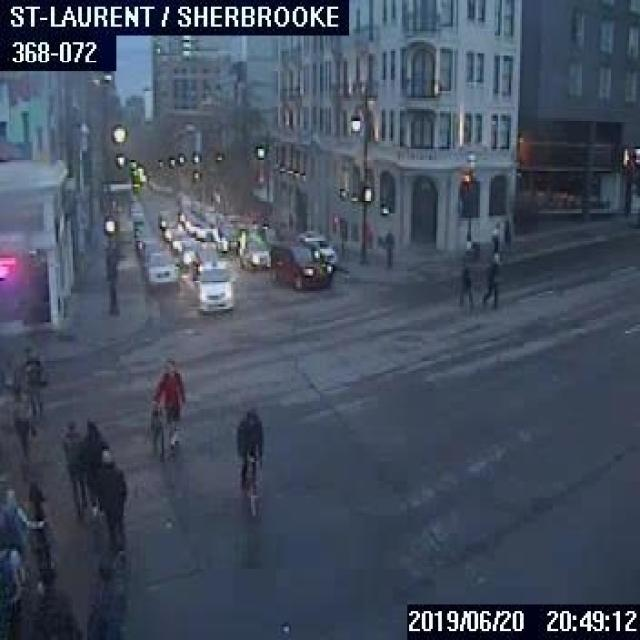cyclist: (231, 402, 264, 514)
pedestrian: (29, 562, 82, 638), (91, 446, 127, 551), (151, 356, 185, 460), (86, 557, 126, 638), (0, 526, 29, 636), (79, 416, 107, 516), (0, 487, 42, 551), (62, 417, 86, 513), (26, 478, 53, 558), (10, 380, 36, 462), (20, 344, 46, 419), (481, 262, 498, 306), (457, 262, 472, 306), (488, 220, 501, 264), (382, 222, 393, 264)
vehicle: (268, 242, 332, 289), (193, 264, 234, 312), (298, 228, 336, 266), (141, 250, 178, 288), (236, 236, 271, 270), (190, 247, 220, 279), (217, 222, 242, 252), (179, 238, 202, 264), (141, 238, 162, 262), (195, 220, 217, 239), (170, 229, 188, 250)
